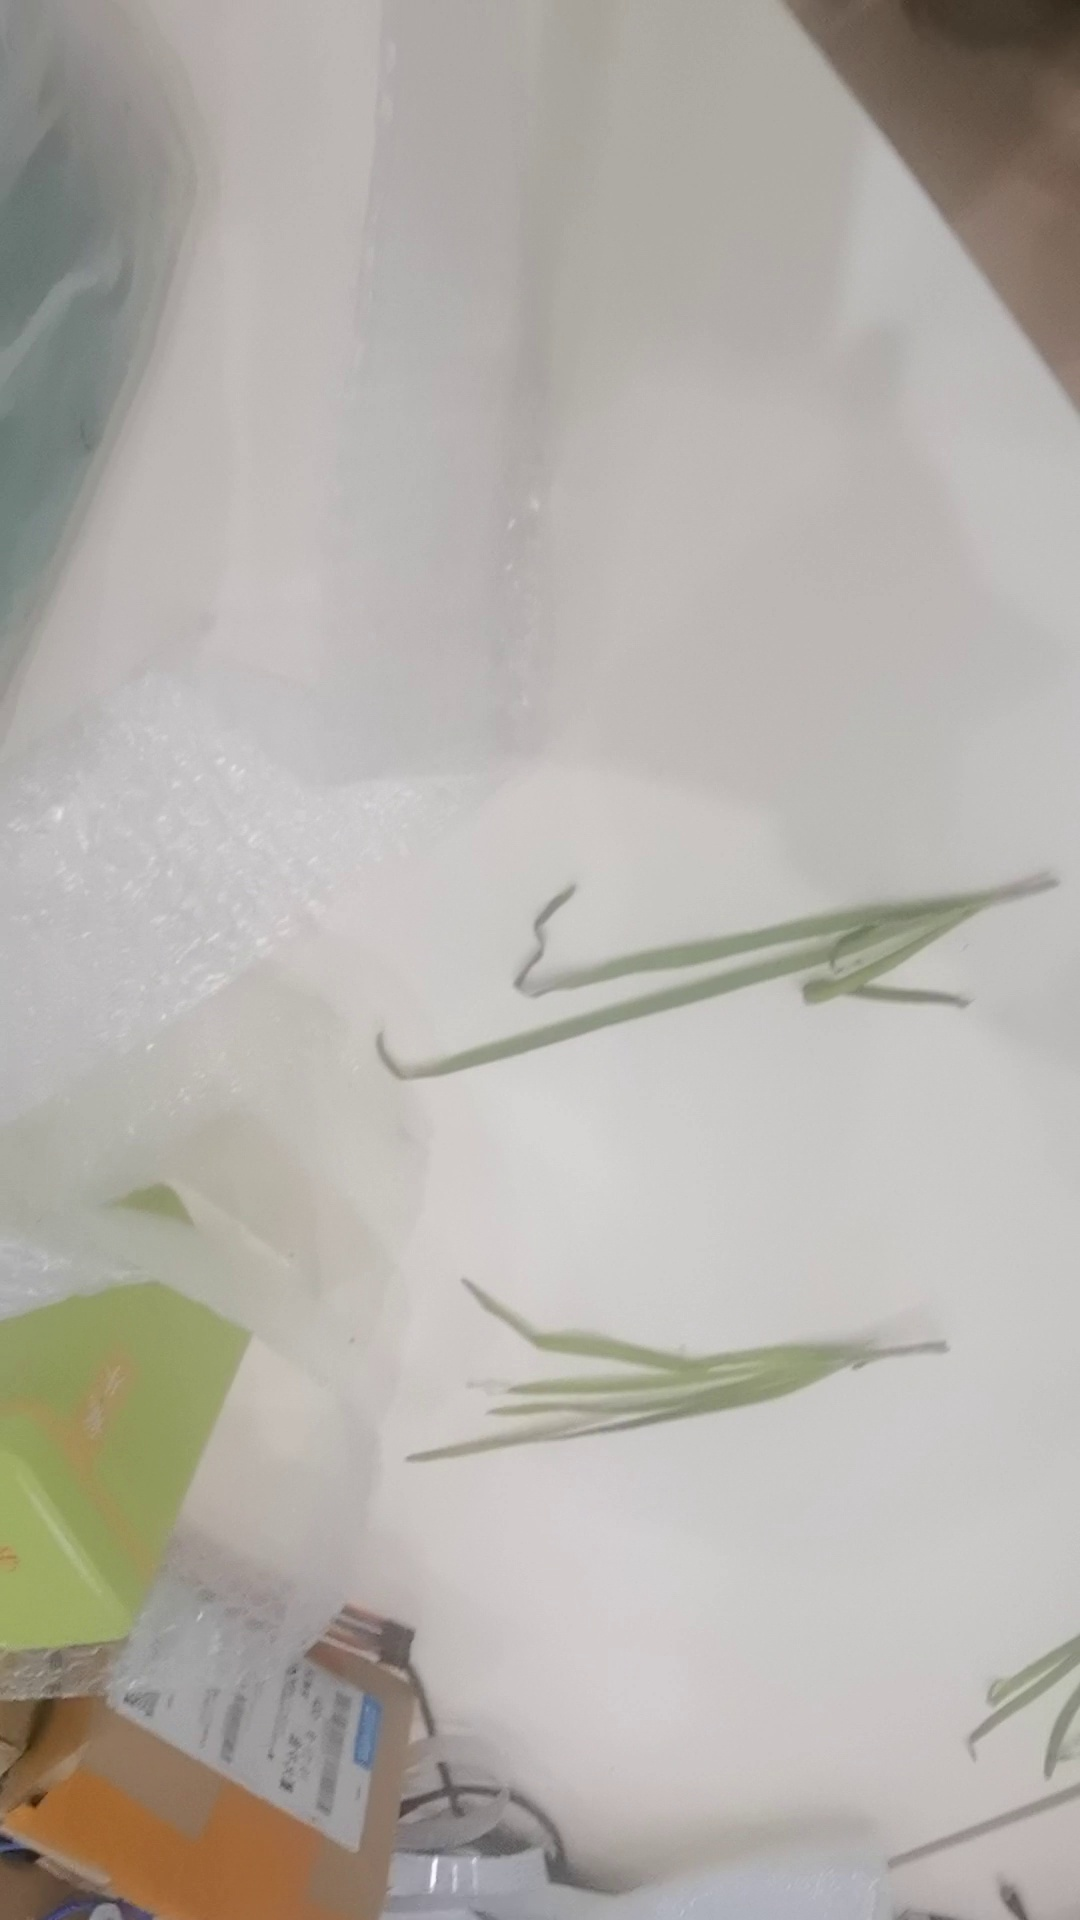chives: (371, 866, 1061, 1047), (387, 1274, 926, 1445)
